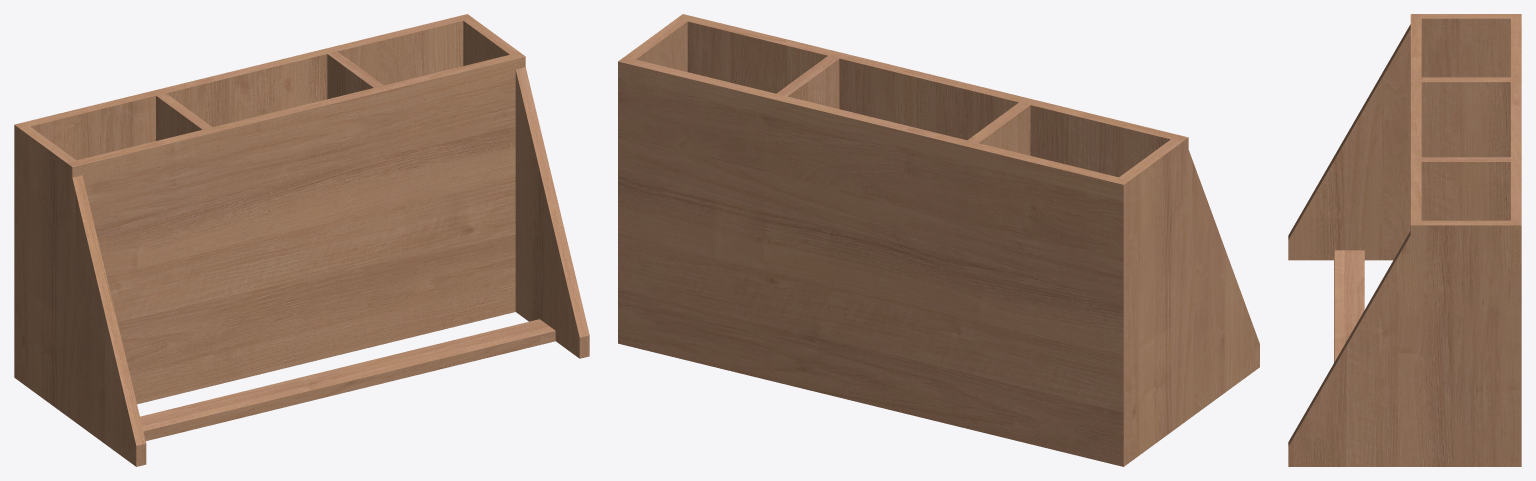
Rendered from FFF.glb.
3 renders of one model, left to right at view 1: azimuth 30°, elevation 25°; view 2: azimuth 150°, elevation 25°; view 3: azimuth 270°, elevation 25°, orthographic. The views are drawn at different scales.
Visible parts, largest first — view 1: Hanging Wall Shelf; view 2: Hanging Wall Shelf; view 3: Hanging Wall Shelf.
Part boxes in pixels (<box>): Hanging Wall Shelf: <box>14,14,589,466</box>; Hanging Wall Shelf: <box>618,14,1259,466</box>; Hanging Wall Shelf: <box>1288,14,1521,466</box>.
Size of the model in its own units: 0.9 by 0.48 by 0.42.
Materials: 1 (1 with a texture image).
